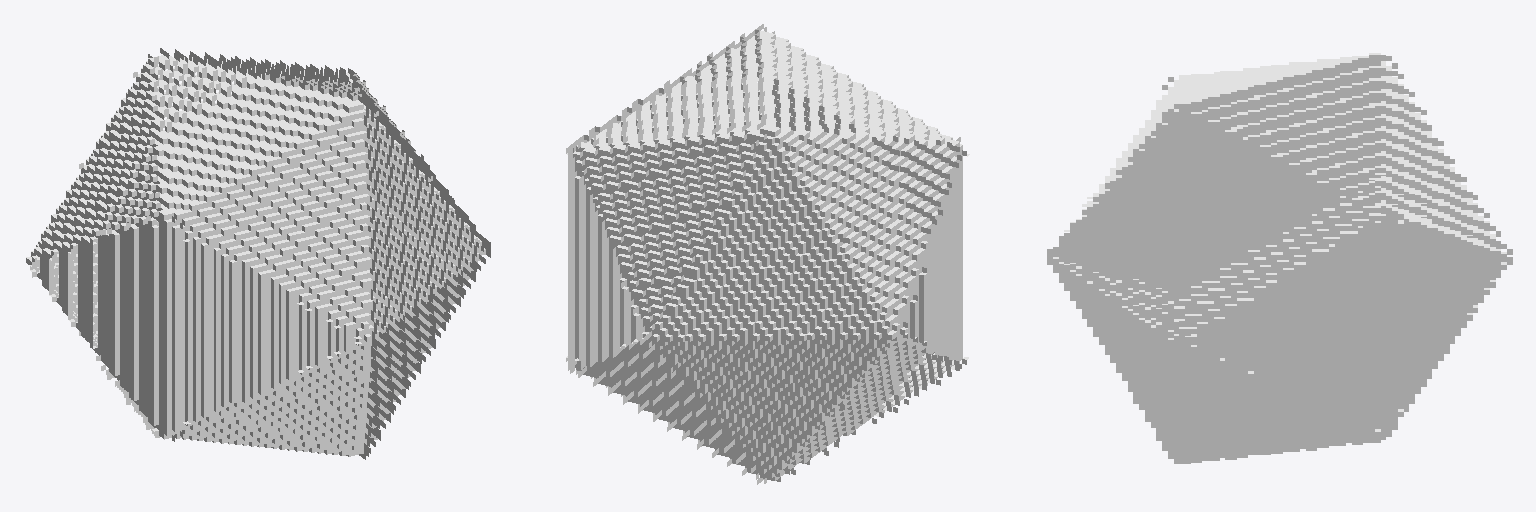
Rendered from icosa20_polyfront.obj.
3 views of the same model, side by side, from view 1: azimuth 30°, elevation 25°; view 2: azimuth 150°, elevation 25°; view 3: azimuth 270°, elevation 25° (orthographic).
Size of the model in its own units: 73 by 69 by 81.